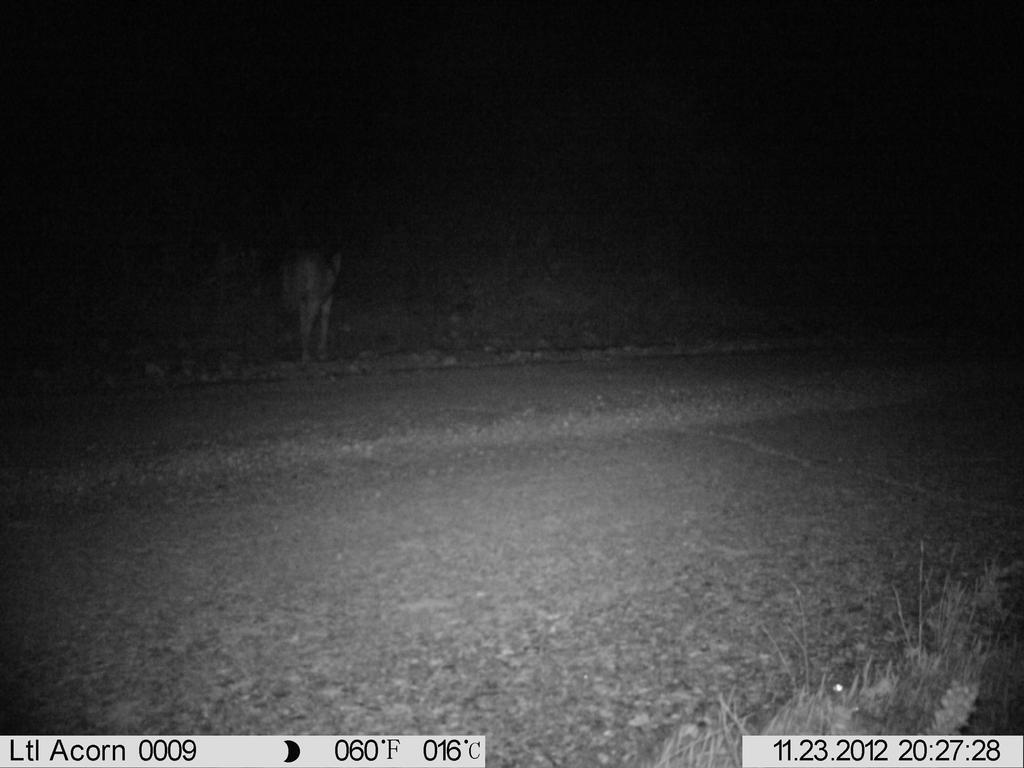coyote: (254, 233, 356, 368)
